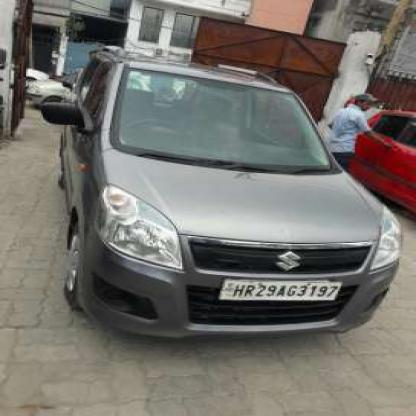license: (220, 272, 343, 308)
